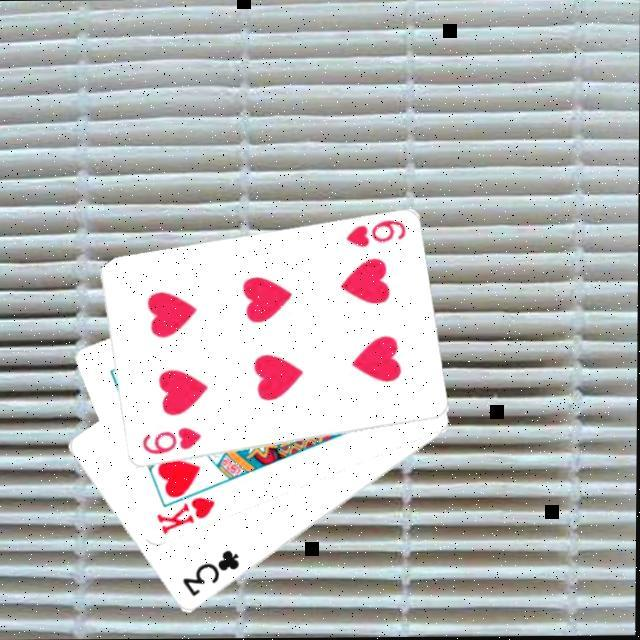3C: (181, 546, 245, 598)
6H: (141, 422, 207, 457), (344, 215, 410, 249)
KH: (156, 492, 220, 536)
